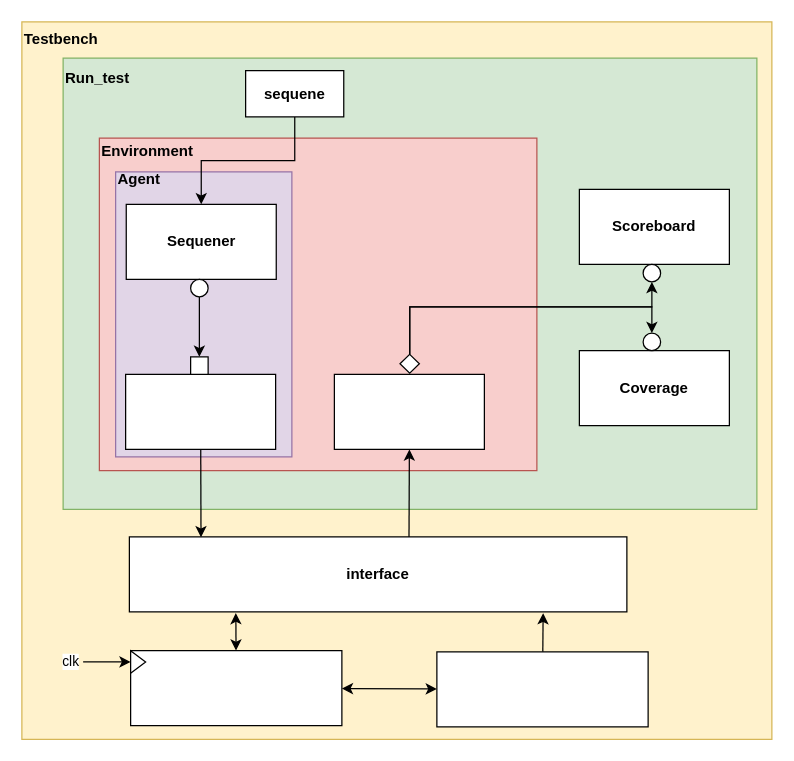
Some shapes in this 794 by 761 pixel diagram are drawn without their labels. The shapes that lost their labels are listed below. From the top down, each one's box as (x1, y1, x2, y2) in pixels, then its label:
(124, 373, 276, 449): Driver
(333, 373, 484, 449): Moniter
(129, 649, 342, 726): AXI_SPI_MST (MASTER)
(436, 651, 648, 727): SPI_SVL (SLAVE)
